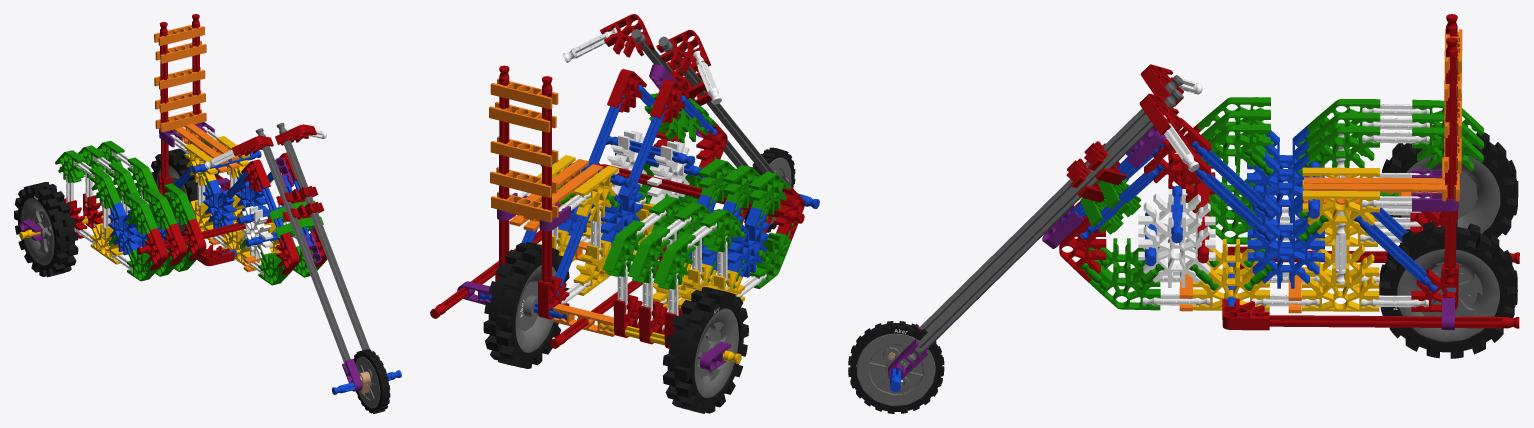
3 renders of one model, left to right at view 1: azimuth 30°, elevation 25°; view 2: azimuth 150°, elevation 25°; view 3: azimuth 270°, elevation 25°, orthographic. The views are drawn at different scales.
Visible parts, largest first — view 1: B1_L22.005, B1_L22.002, B1_L22.008, B1_L22.004, B1_L22.010, B1_L22.007, B1_L22.001, B1_L22.003, B1_L22.006, B1_L22.012; view 2: B1_L22.005, B1_L22.002, B1_L22.010, B1_L22.004, B1_L22.007, B1_L22.001, B1_L22.008, B1_L22.003, B1_L22.006, B1_L22.012; view 3: B1_L22.002, B1_L22.005, B1_L22.004, B1_L22.008, B1_L22.001, B1_L22.010, B1_L22.003, B1_L22.007, B1_L22.006, B1_L22.012.
Part boxes in pixels (x1,y1,x2,y2): B1_L22.005: [63, 14, 327, 275]; B1_L22.002: [55, 139, 323, 285]; B1_L22.008: [21, 122, 369, 372]; B1_L22.004: [108, 150, 401, 394]; B1_L22.010: [14, 148, 390, 413]; B1_L22.007: [130, 23, 281, 272]; B1_L22.001: [66, 126, 326, 274]; B1_L22.003: [19, 136, 279, 266]; B1_L22.006: [19, 122, 362, 391]; B1_L22.012: [355, 356, 380, 408]; B1_L22.005: [430, 14, 804, 348]; B1_L22.002: [552, 93, 794, 289]; B1_L22.010: [483, 147, 795, 413]; B1_L22.004: [480, 84, 819, 320]; B1_L22.007: [489, 78, 614, 336]; B1_L22.001: [518, 27, 766, 330]; B1_L22.008: [515, 29, 775, 397]; B1_L22.003: [537, 155, 744, 363]; B1_L22.006: [457, 64, 792, 370]; B1_L22.012: [769, 157, 791, 224]; B1_L22.002: [1080, 97, 1483, 310]; B1_L22.005: [1059, 14, 1519, 330]; B1_L22.004: [889, 125, 1453, 392]; B1_L22.008: [907, 75, 1500, 361]; B1_L22.001: [1138, 74, 1444, 307]; B1_L22.010: [848, 125, 1518, 413]; B1_L22.003: [1192, 167, 1379, 311]; B1_L22.007: [1179, 29, 1462, 313]; B1_L22.006: [888, 126, 1458, 379]; B1_L22.012: [857, 333, 935, 405].
Size of the model in its own units: 1.71 by 1.91 by 3.06.
